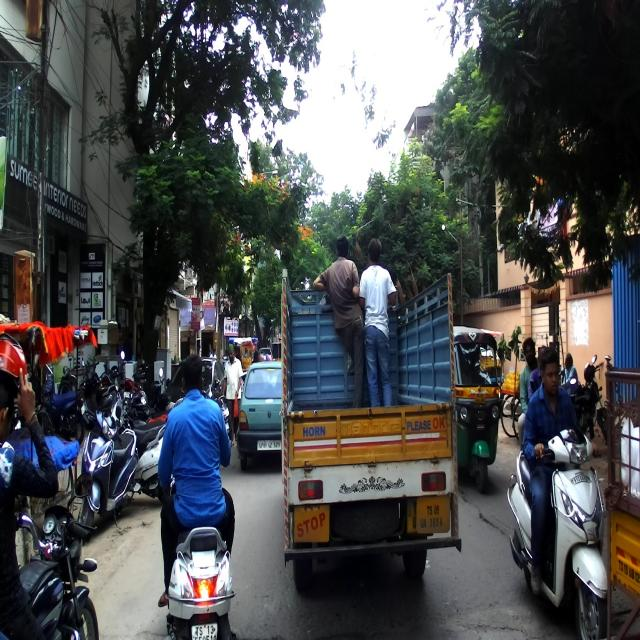autorickshaw: (452, 324, 502, 495)
motorcycle_Hero: (0, 469, 100, 639), (564, 354, 607, 444)
scooter: (507, 426, 610, 638), (164, 449, 235, 638), (75, 402, 138, 539), (108, 397, 167, 504)
truck: (280, 266, 462, 596)
